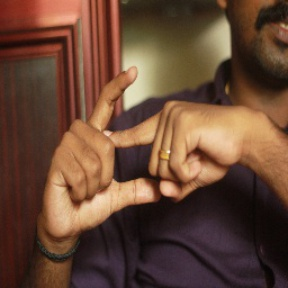E: (78, 67, 172, 209)
